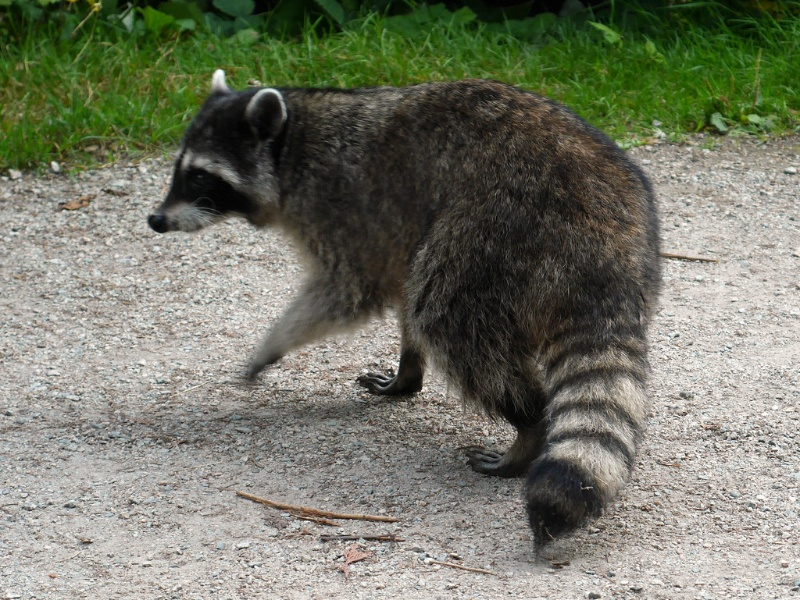raccoon: (137, 61, 671, 553)
